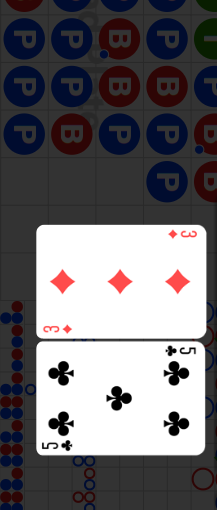3D: (42, 323, 74, 335)
5C: (41, 438, 75, 452)
